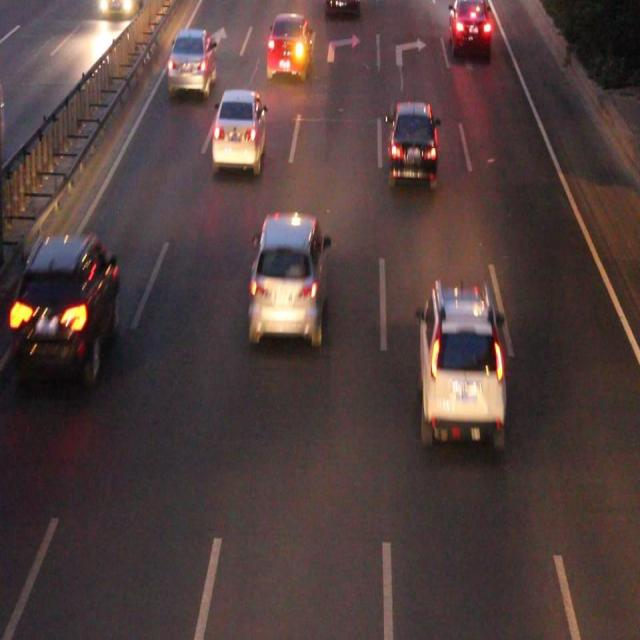car: (13, 240, 118, 376), (421, 287, 501, 438), (251, 216, 326, 336), (213, 87, 266, 164), (389, 102, 434, 180), (168, 29, 215, 91), (267, 18, 310, 72), (448, 1, 489, 51), (324, 1, 358, 17)
